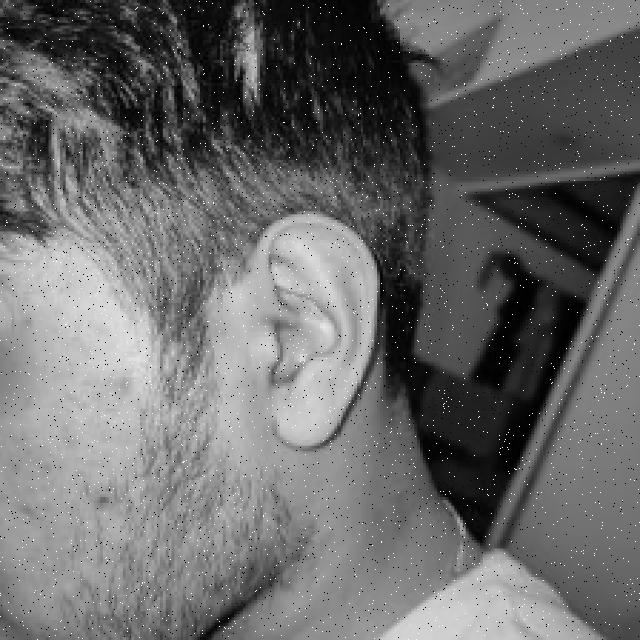ear: (251, 211, 377, 446)
